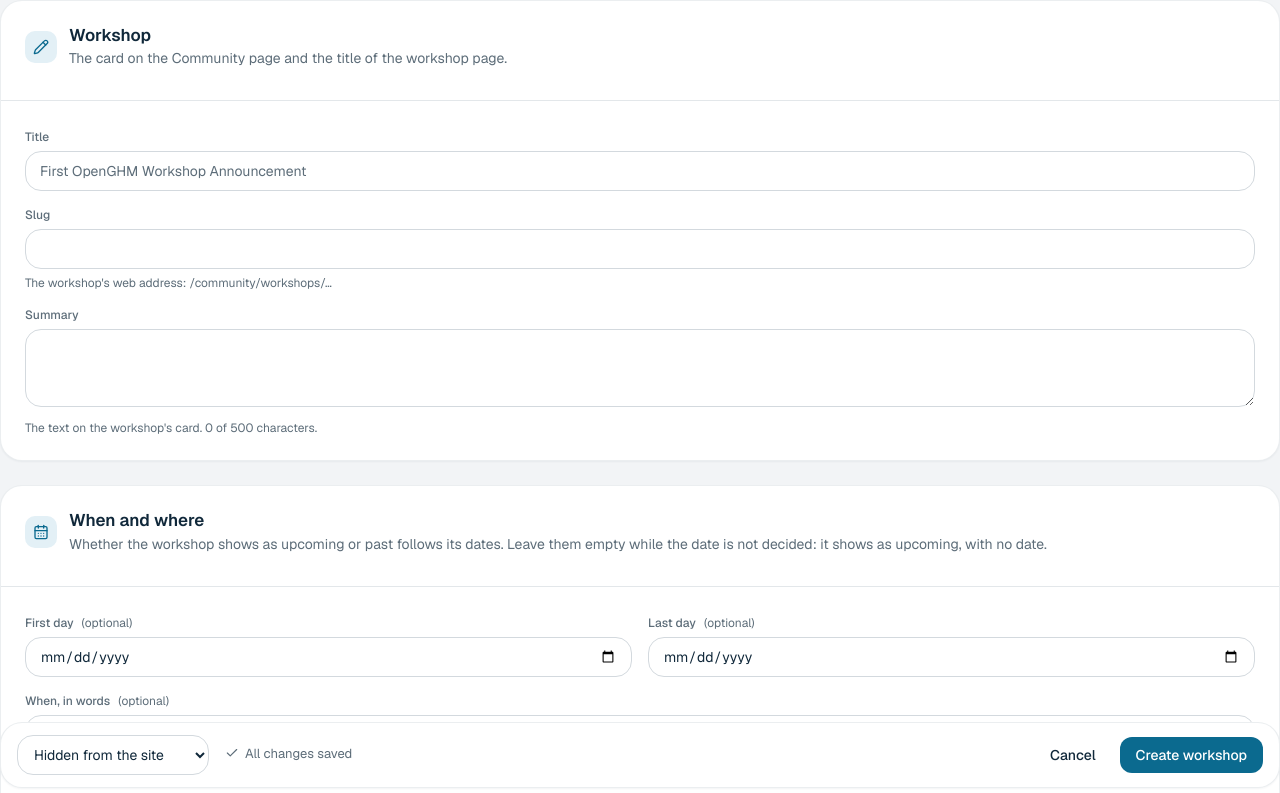
a new workshop › follows the title with the slug until the slug is typed by hand
The width and height of the screenshot is (1280, 793).
In the field labelled "Title": (640, 171) [25,151,1255,191], type "First OpenGHM Workshop!"
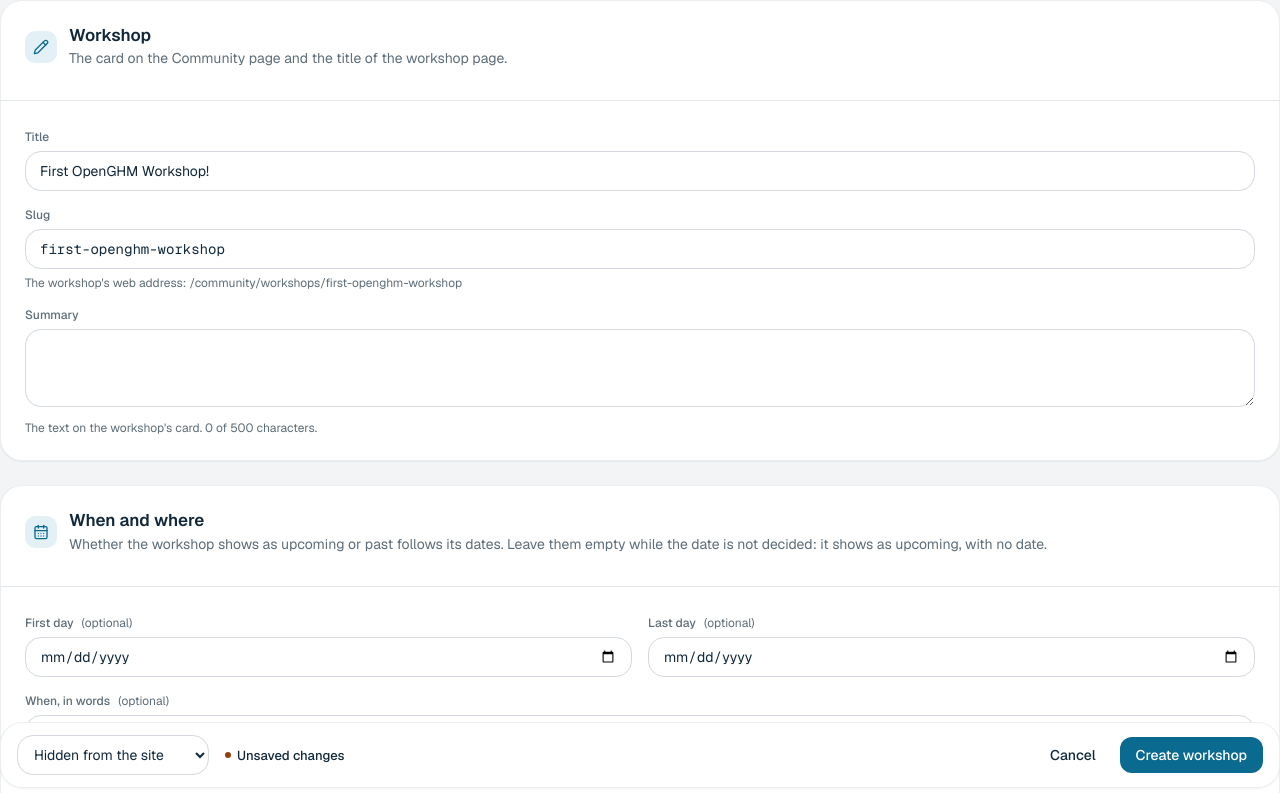
expect the field labelled "Slug" holds "first-openghm-workshop": met
Replace the text in the field labelled "Slug" with "my-own": (640, 249) [25,229,1255,269]
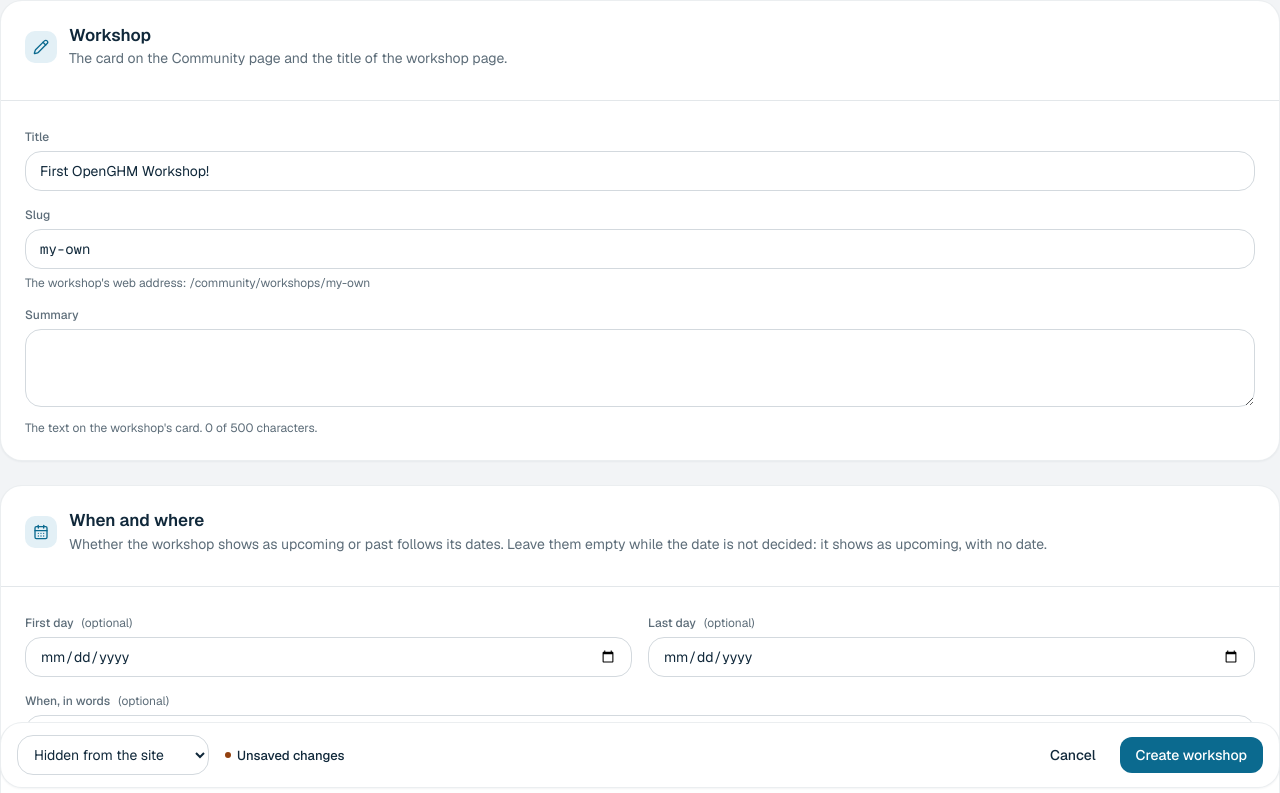
Replace the text in the field labelled "Title" with "Another title": (640, 171) [25,151,1255,191]
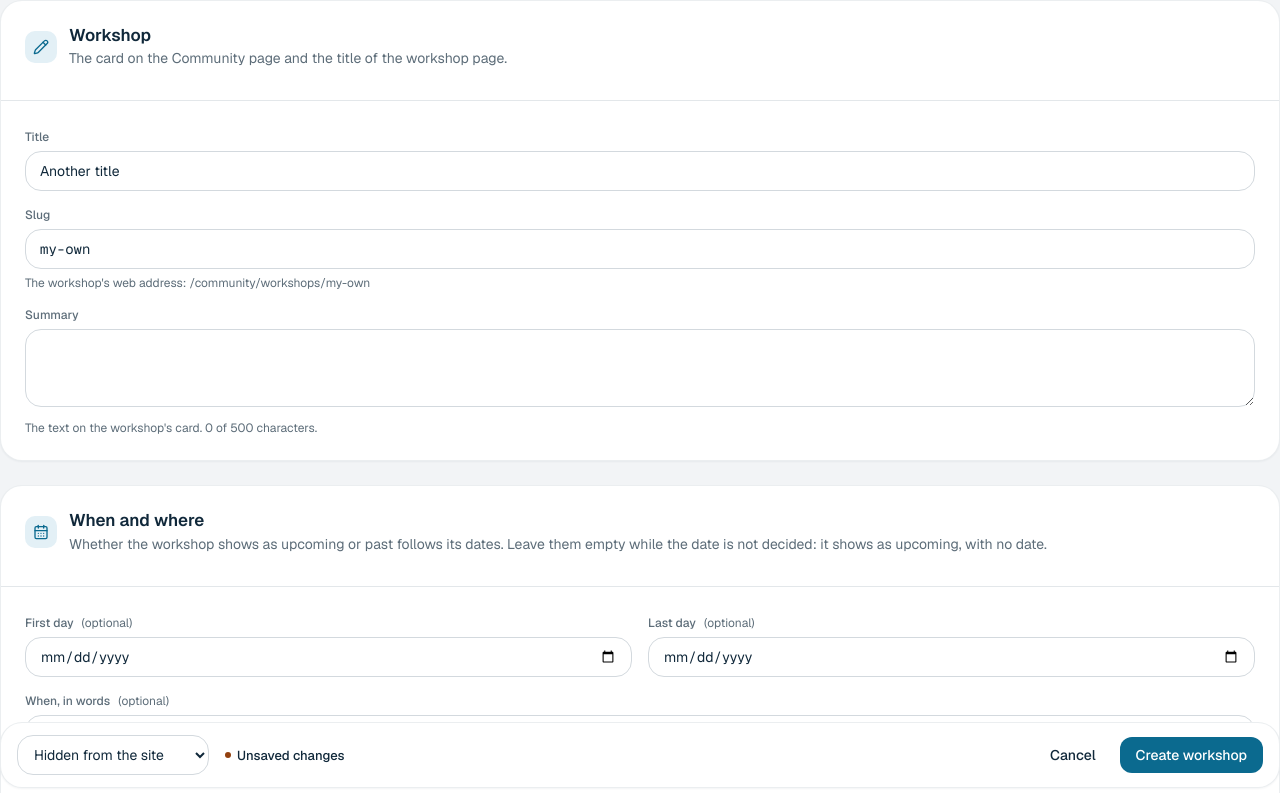
Clear the field labelled "Slug": (640, 249) [25,229,1255,269]
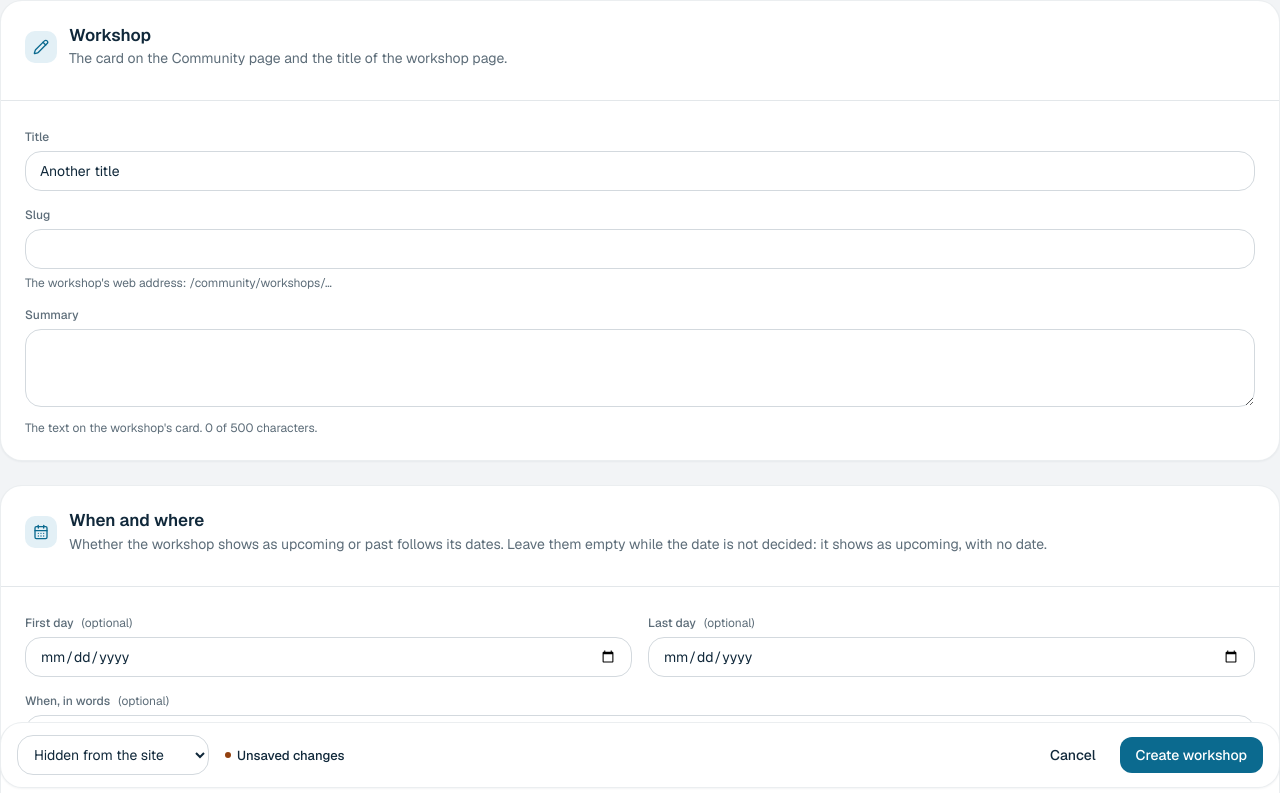
Replace the text in the field labelled "Title" with "Third title": (640, 171) [25,151,1255,191]
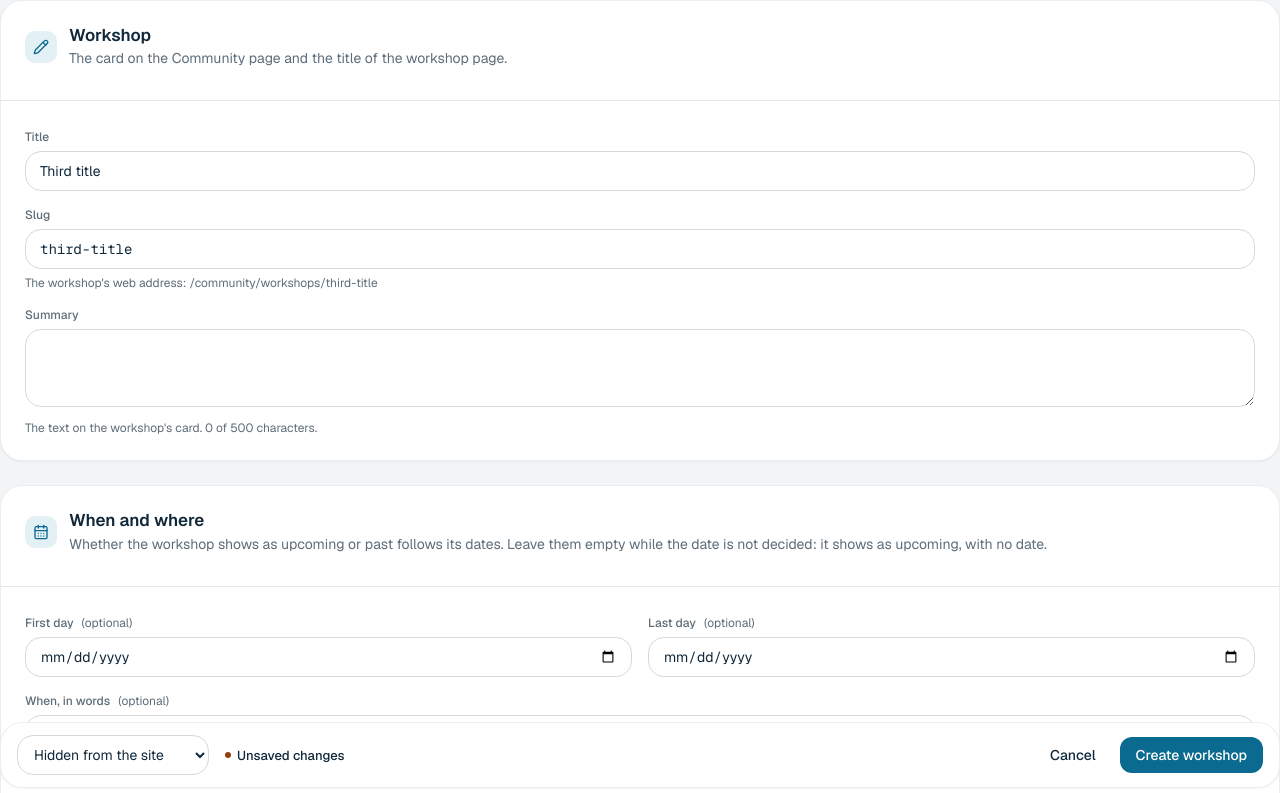
expect the field labelled "Slug" holds "third-title": met, box [25,229,1255,269]
